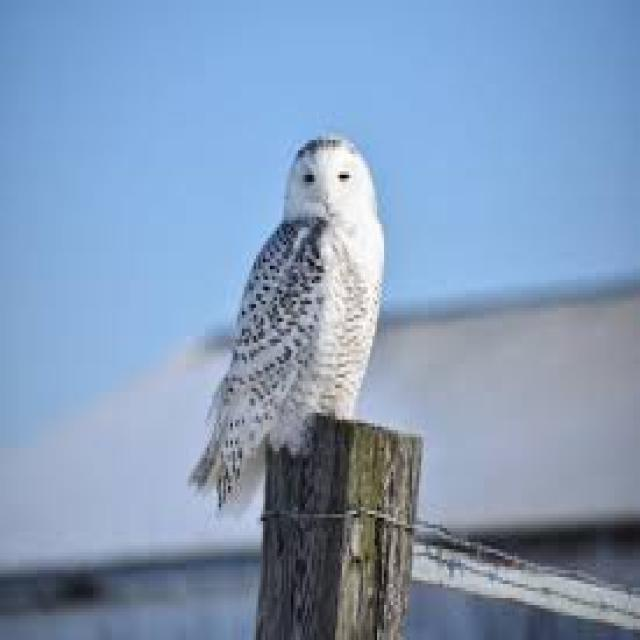Owl: (189, 131, 392, 511)
